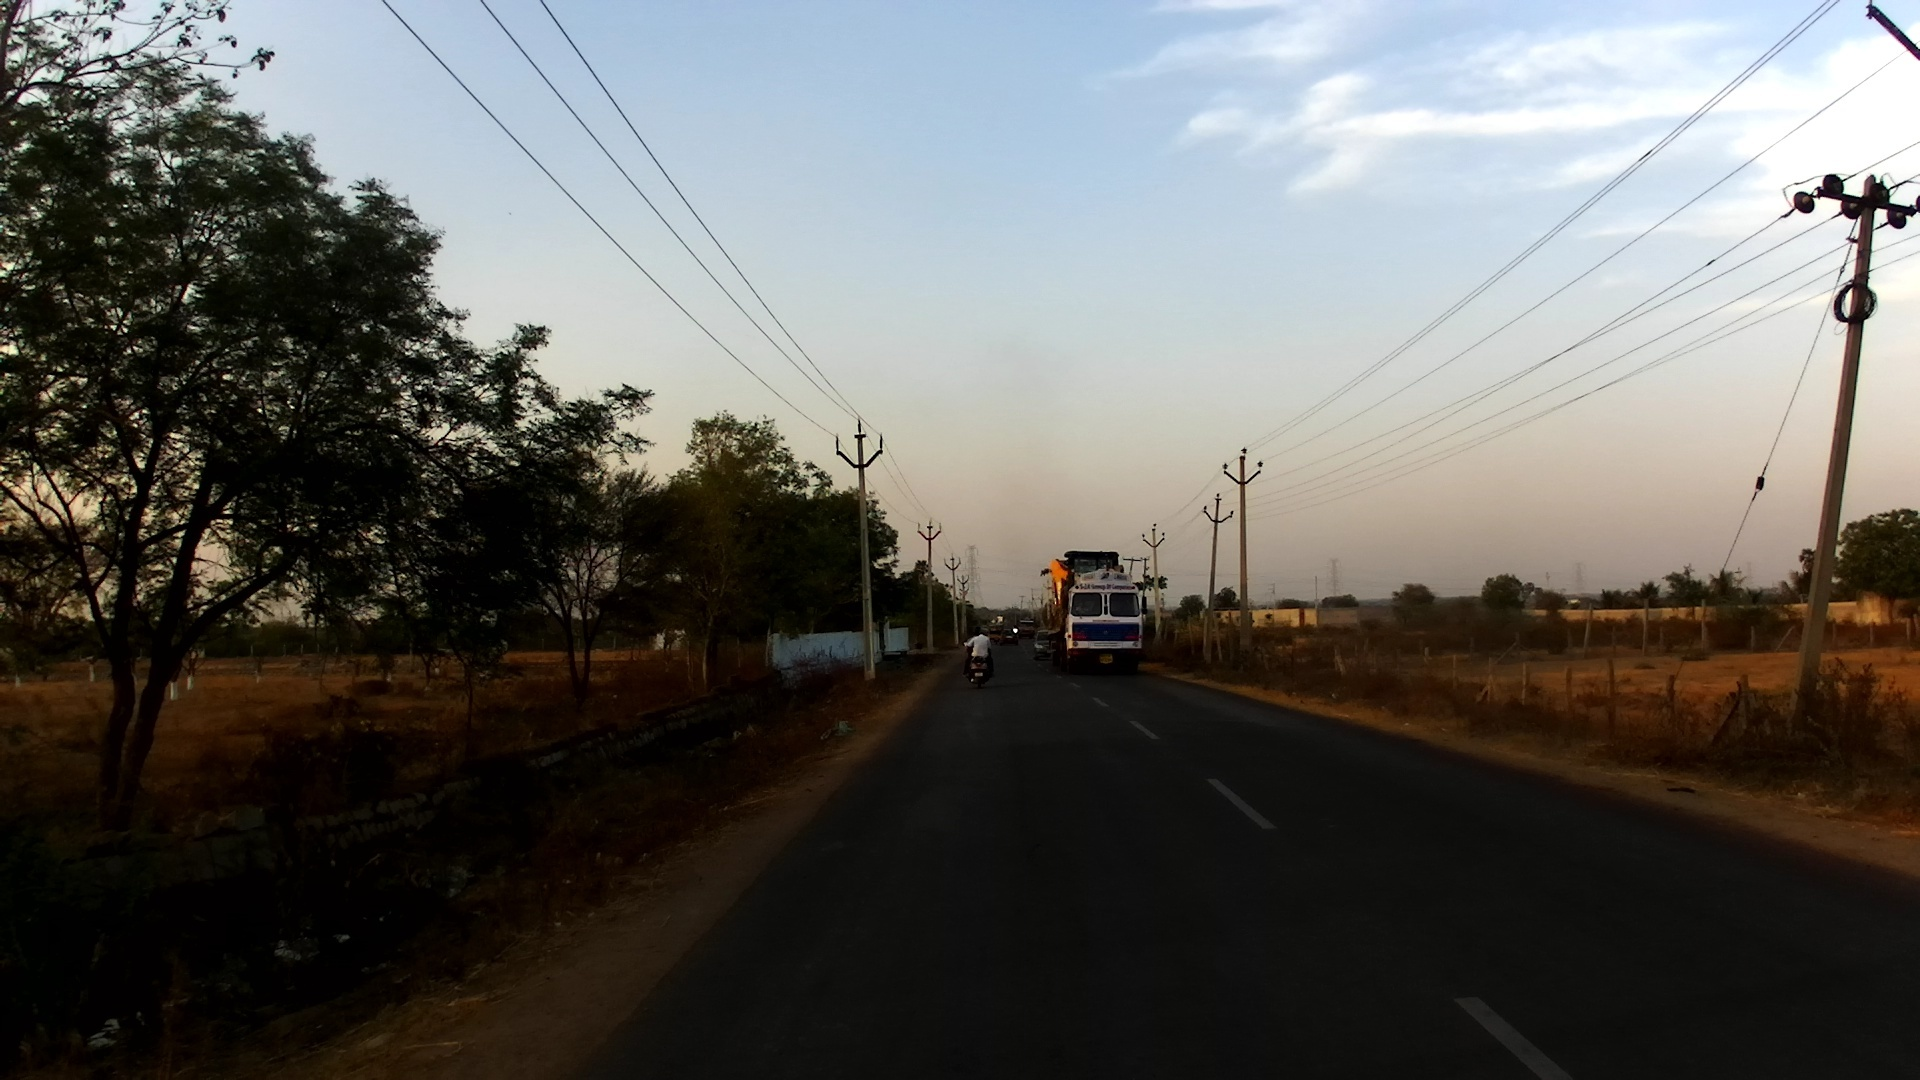car: (1032, 628, 1052, 662), (985, 615, 1004, 643), (998, 625, 1021, 648)
motorcycle: (963, 646, 994, 688)
rider: (962, 627, 998, 677), (966, 626, 990, 656)
truck: (1043, 550, 1148, 678), (1016, 618, 1033, 641)
